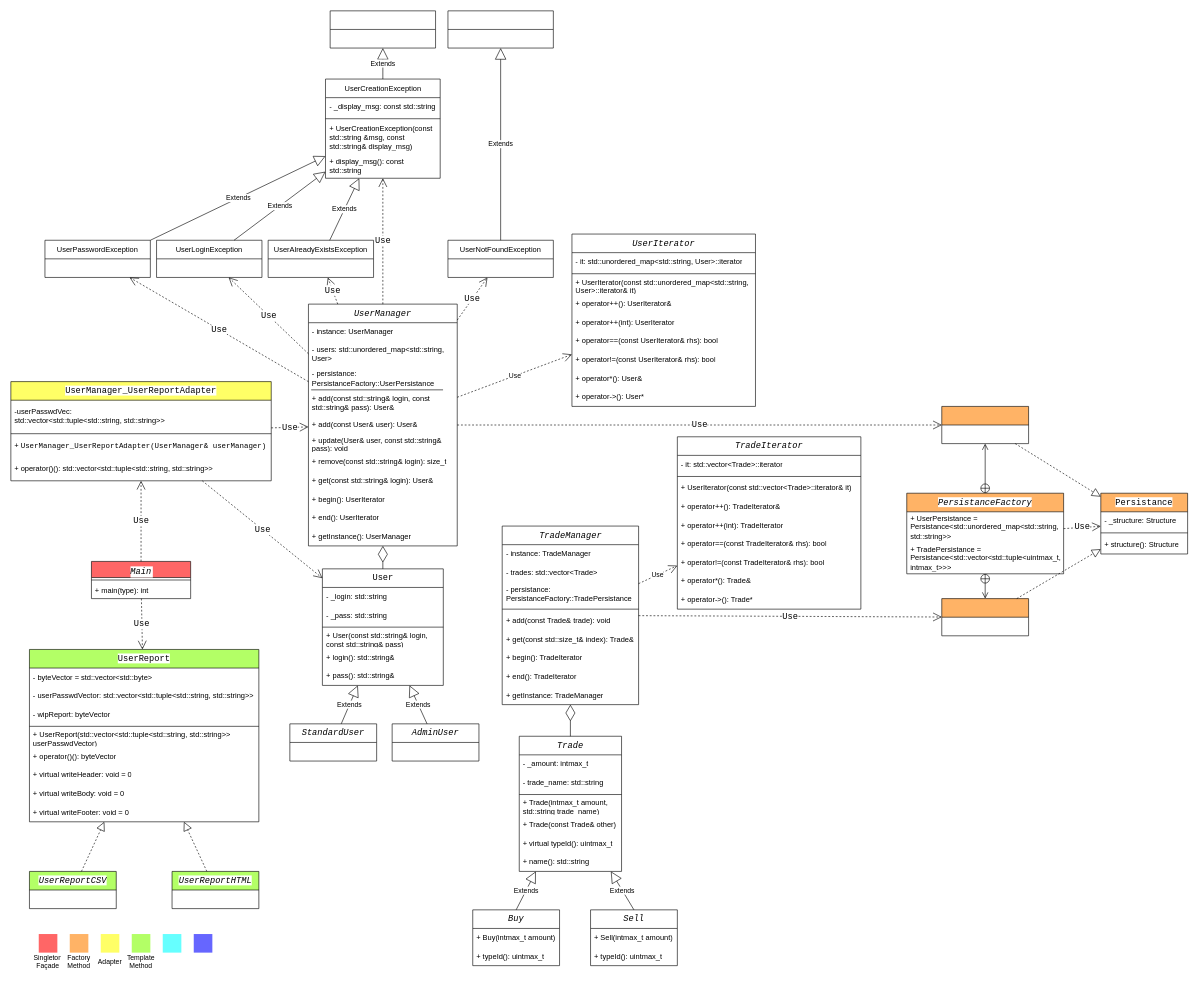
Image size: 1198x982. Some labels were removed from this diagram. The centre of each missing label's shape, as x and y in pixels:
std::invalid_argument: pixel 383 29
std::out_of_range: pixel 500 29
TradePersistance: pixel 985 617
UserPersistance: pixel 985 425
